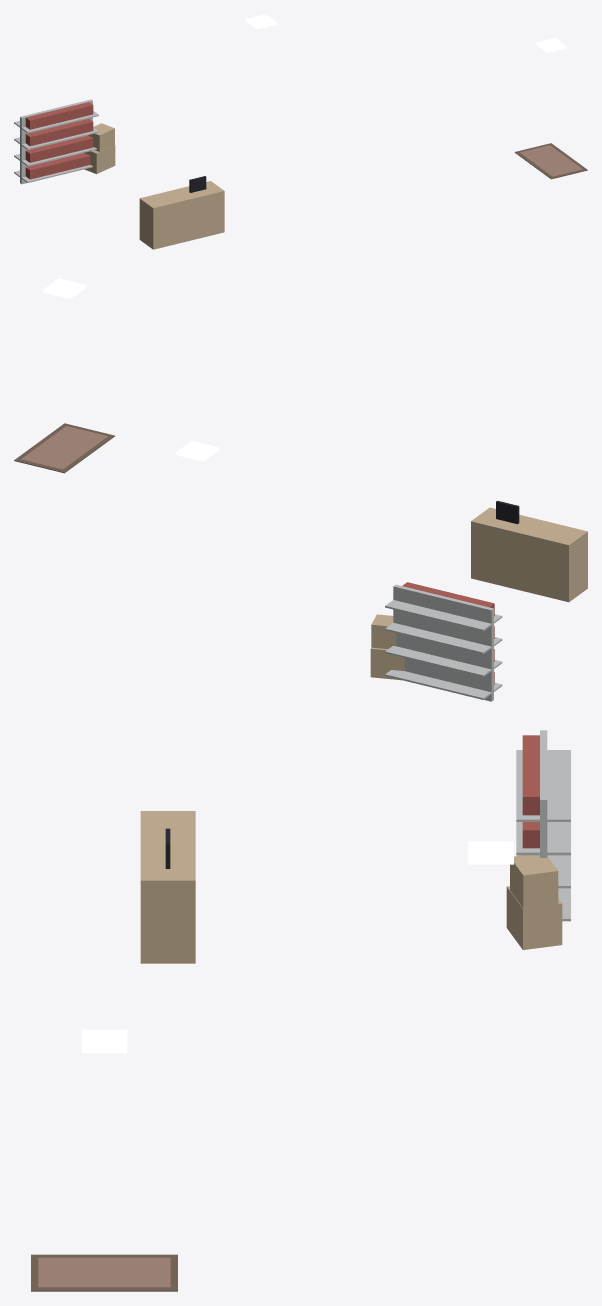
File: fine-s0.glb
The picture shows the model from 3 angles, top to bottom: view 1: azimuth 30°, elevation 25°; view 2: azimuth 150°, elevation 25°; view 3: azimuth 270°, elevation 25°; orthographic projection. The views are drawn at different scales.
Parts seen in each view (by area): view 1: shelving.000, shop-counter.000, soft-s0, cardboard-box.000; view 2: shelving.000, shop-counter.000, soft-s0, cardboard-box.000, ceiling-lamp.000, ceiling-lamp.001; view 3: shop-counter.000, shelving.000, soft-s0, cardboard-box.000, ceiling-lamp.000, ceiling-lamp.001.
Boxes of the visible parts, left/top/right/bottom form: shelving.000: left=14, top=99, right=98, bottom=184; shop-counter.000: left=139, top=176, right=224, bottom=249; soft-s0: left=514, top=143, right=587, bottom=179; cardboard-box.000: left=84, top=123, right=115, bottom=174; shelving.000: left=385, top=582, right=502, bottom=701; shop-counter.000: left=471, top=500, right=587, bottom=602; soft-s0: left=14, top=423, right=114, bottom=473; cardboard-box.000: left=370, top=614, right=404, bottom=680; ceiling-lamp.000: left=43, top=278, right=85, bottom=299; ceiling-lamp.001: left=176, top=441, right=218, bottom=461; shop-counter.000: left=140, top=811, right=195, bottom=963; shelving.000: left=516, top=730, right=570, bottom=921; soft-s0: left=31, top=1254, right=177, bottom=1291; cardboard-box.000: left=506, top=855, right=562, bottom=949; ceiling-lamp.000: left=81, top=1029, right=127, bottom=1053; ceiling-lamp.001: left=468, top=841, right=513, bottom=864.
Size of the model in its own units: 11.08 by 2.82 by 5.91.
